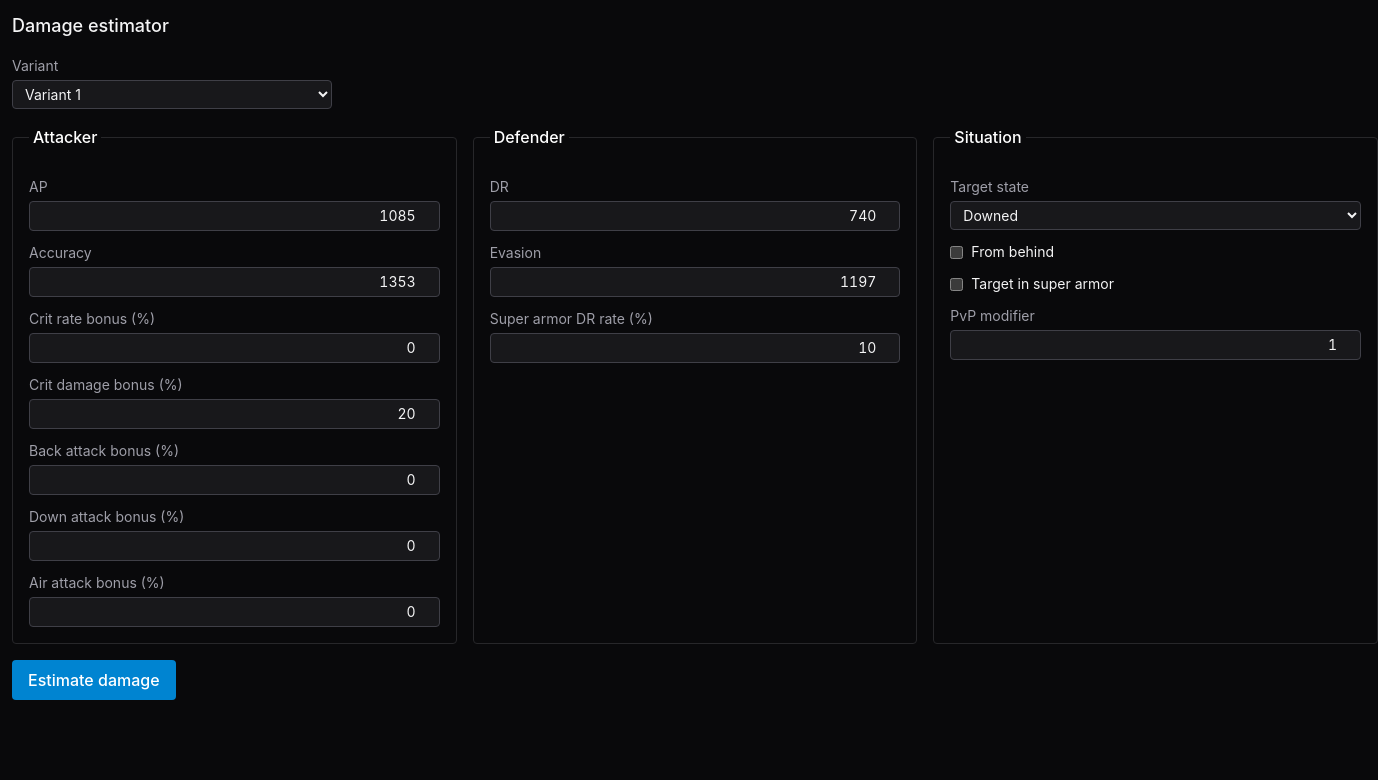
Scenario: DamageEstimator › estimates the variant the user chose
Step 1. Select "Variant 2" in the dropdown labelled "Variant" → point(172, 94), box 12,80 -> 332,109
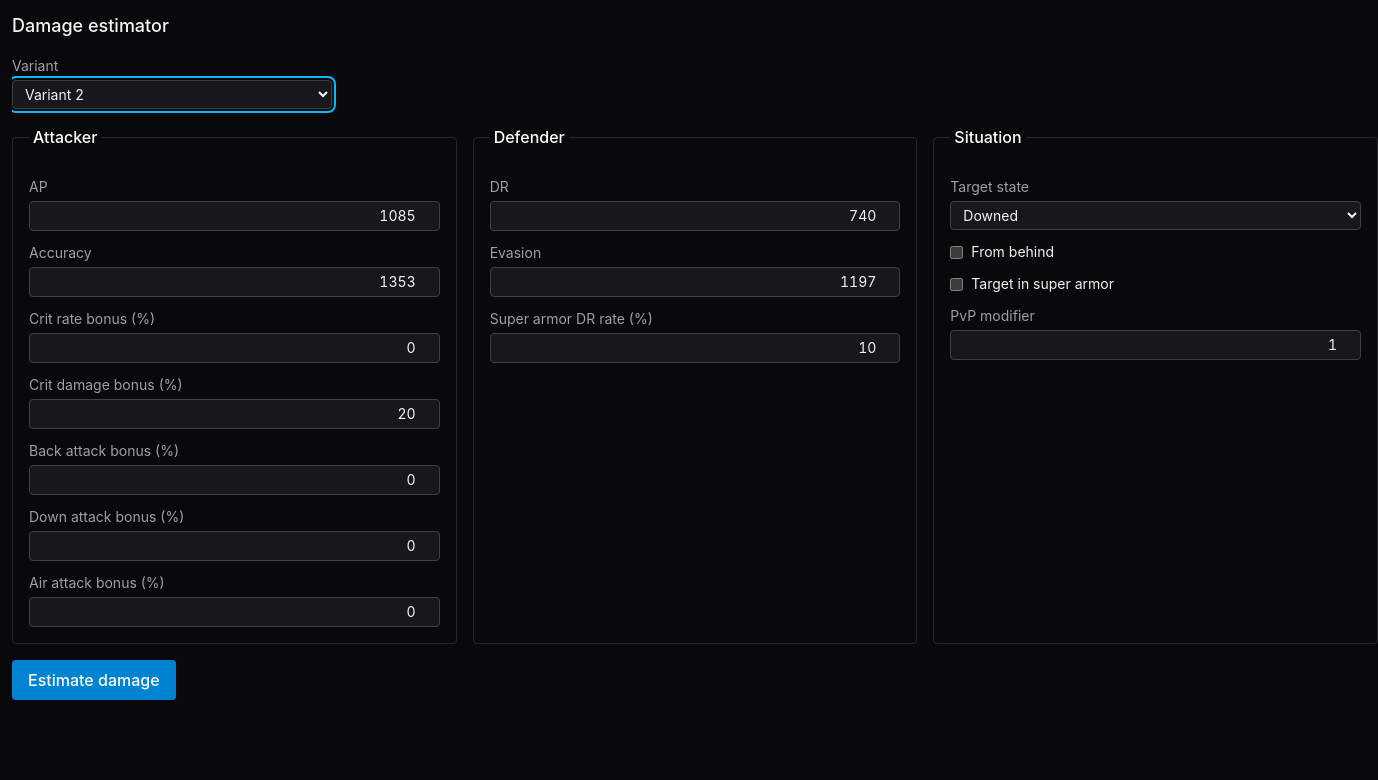
Step 2. Click the button "Estimate damage" → point(94, 680), box 12,660 -> 176,700
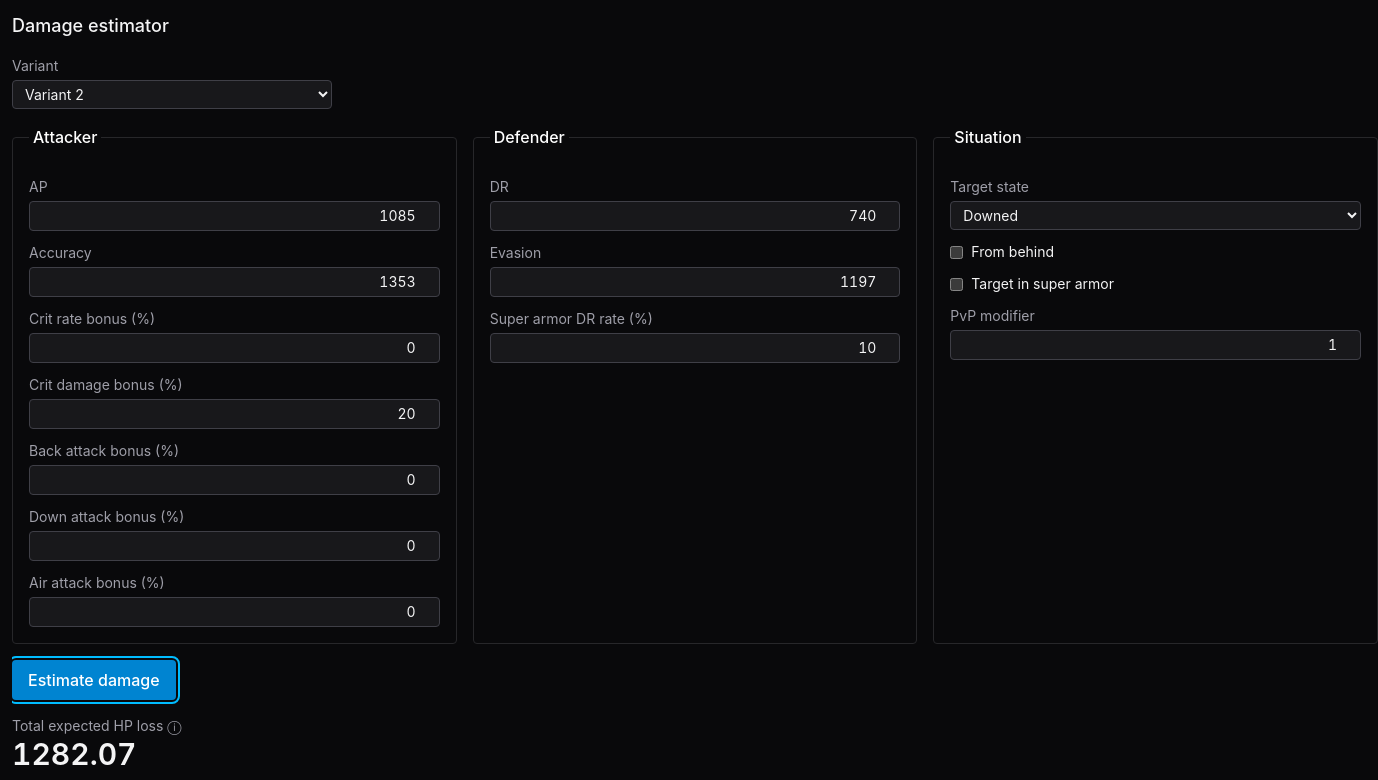
Expected: the text "1282.07" is shown, 12,736 -> 136,772
